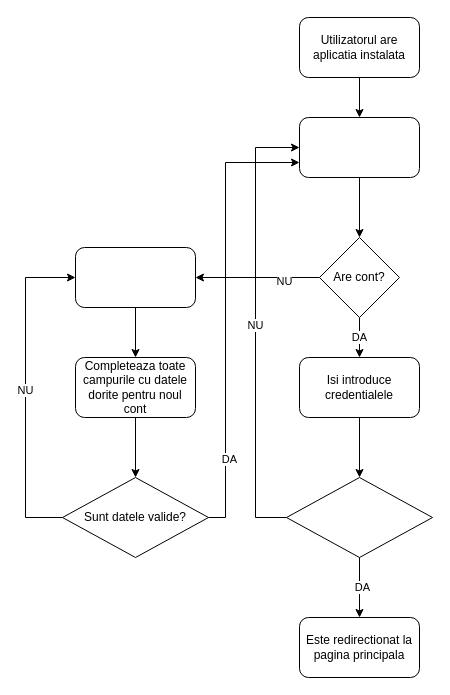
The diagram is 450 pixels wide and 695 high, and some of its shapes have lost their labels. The shapes that lost their labels are listed below. From the top down, each one's centre as x and y in pixels, then its label:
At [359,147]: "Utilizatorul este redirectionat la pagina de Sign In".
At [135,277]: "Este redirectionat pe pagina de Sign Up".
At [359,517]: "Sunt credentialele valide?".
